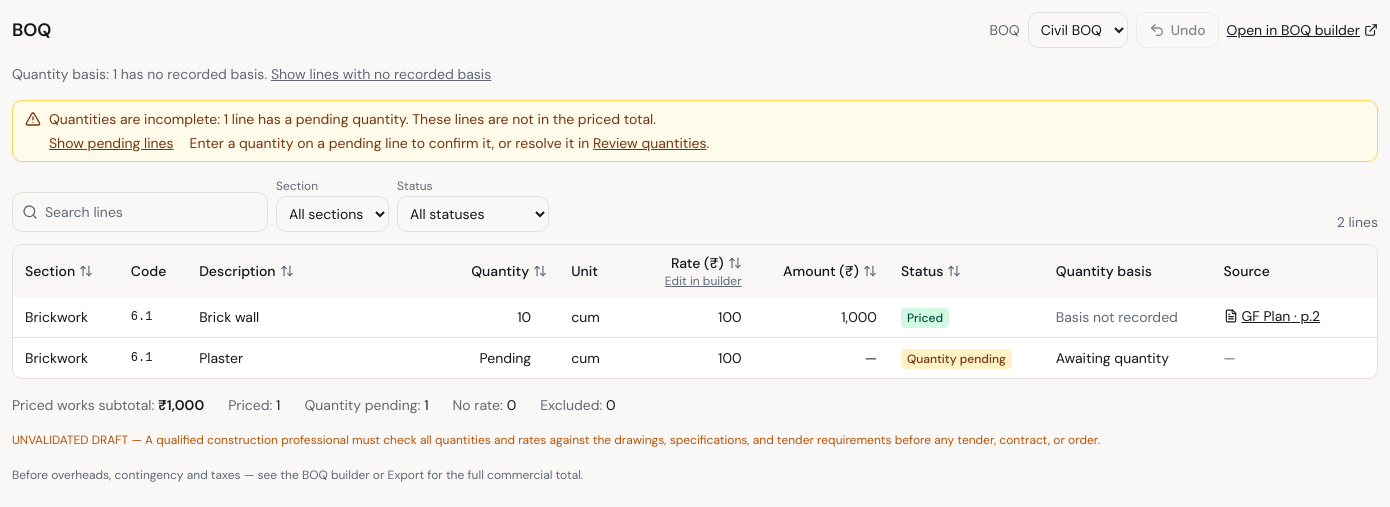
Test case: ProjectBoq › writes the edit, then undoes it with the exact inverse patch
The image size is (1390, 507).
Click the button "Pending" at (506, 358), box [460,346,551,370]
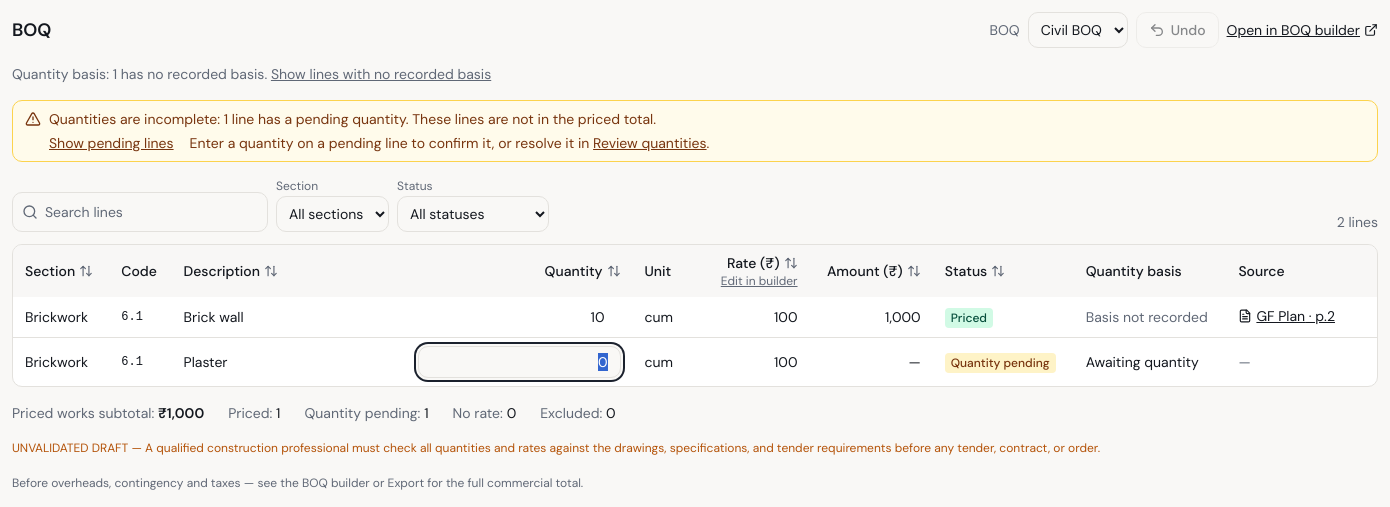
Replace the text in the field named "Quantity for Plaster" with "40" at (519, 362), box [418,346,621,378]
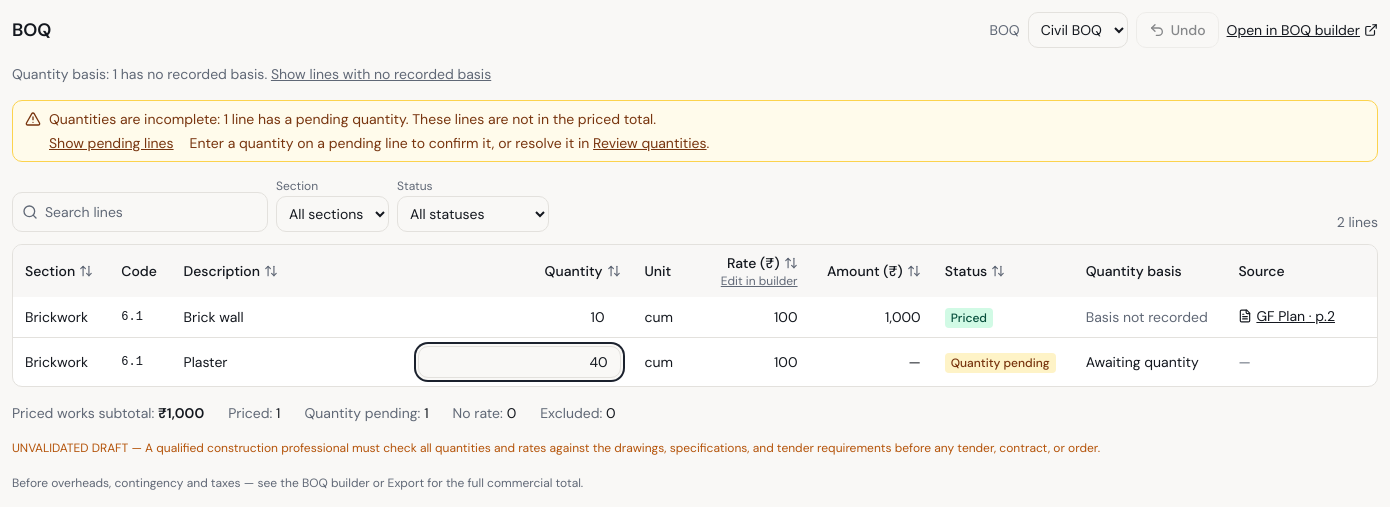
Press Enter in the field named "Quantity for Plaster", box [418,346,621,378]
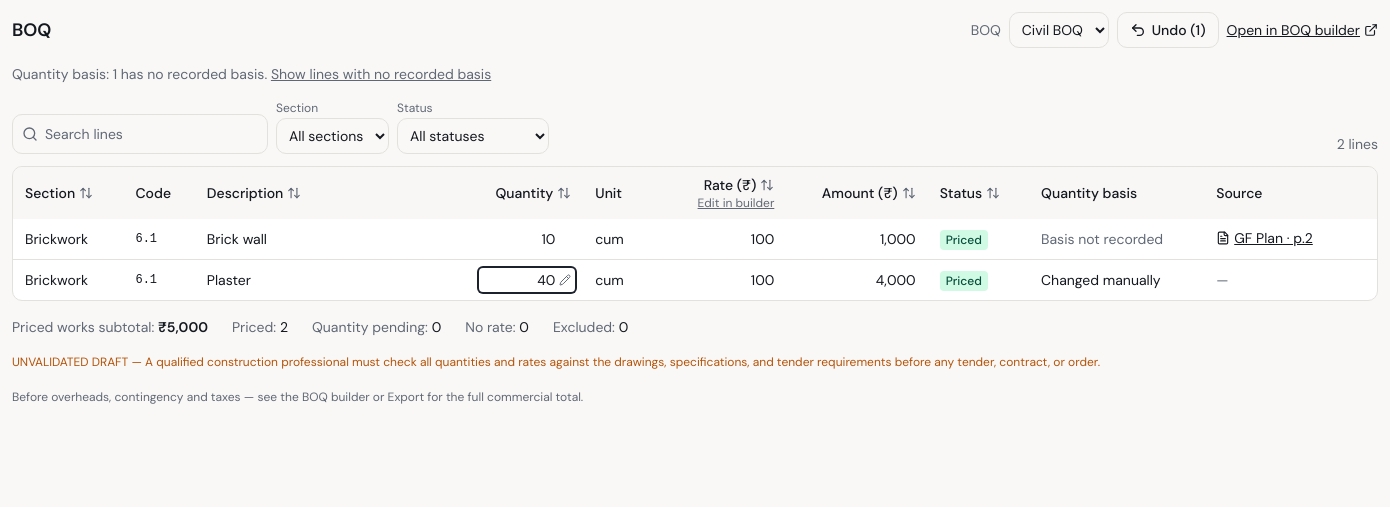
Check: the text "Quantities are incomplete" is gone
Click the button with aria-label "Undo: Quantity of “Plaster”: 0 → 40" at (1168, 30), box [1117,12,1218,48]
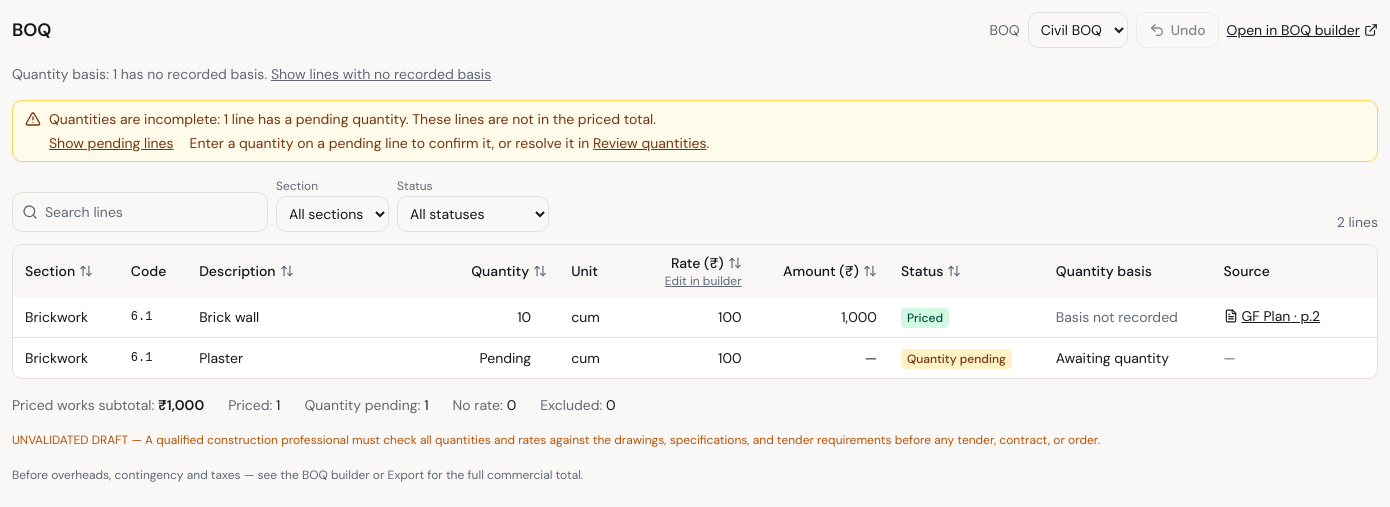
Check: the text "Quantities are incomplete" is shown, box [49,110,656,128]
Check: the button with aria-label "Undo (nothing to undo)" is disabled, box [1136,12,1218,48]
